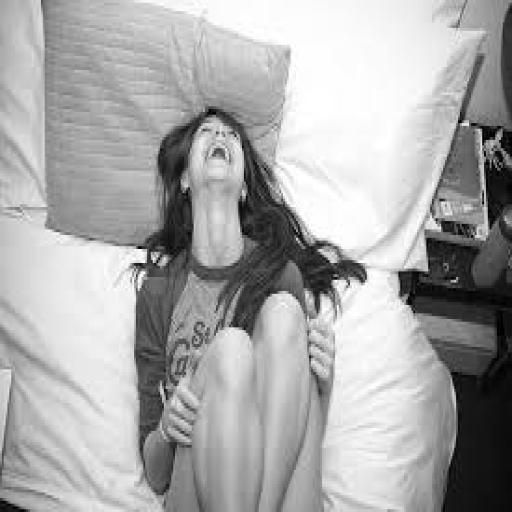laughing: (117, 92, 367, 504)
